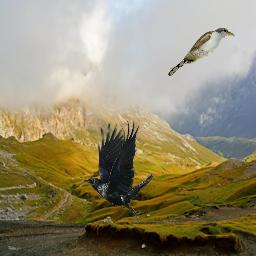Crow: (82, 119, 154, 223)
Cuckoo: (167, 27, 235, 76)
